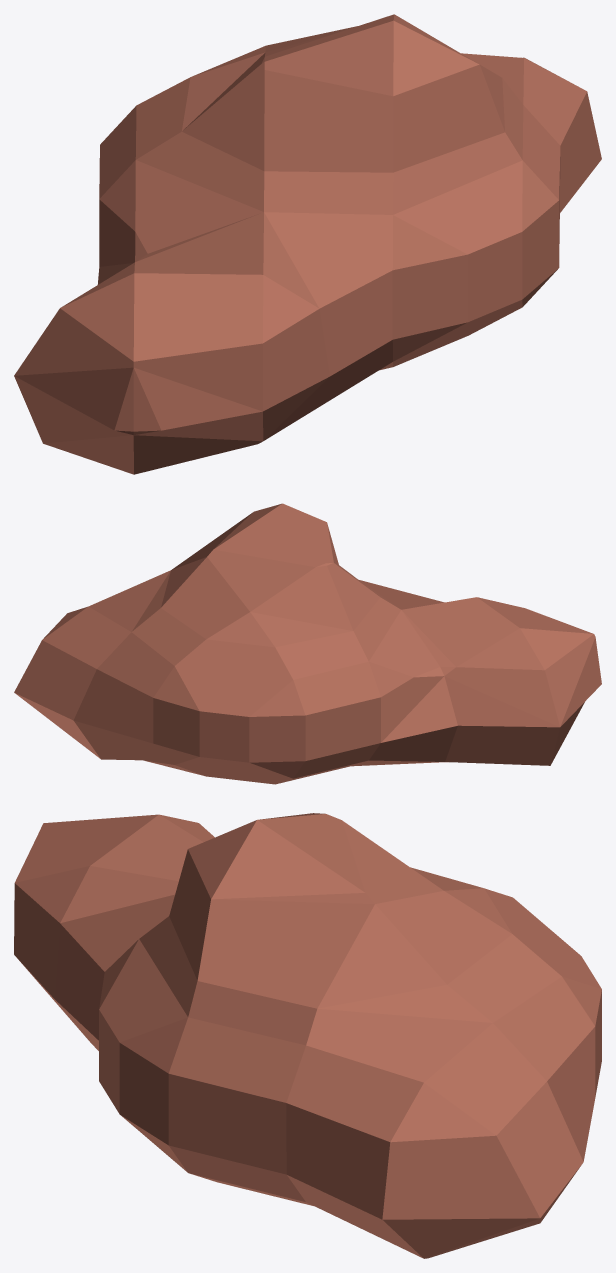
The model's file is Rock 1.fbx.
3 views of the same model, one above another, from view 1: azimuth 30°, elevation 25°; view 2: azimuth 150°, elevation 25°; view 3: azimuth 270°, elevation 25° (orthographic). The views are drawn at different scales.
Visible parts, largest first — view 1: Rock; view 2: Rock; view 3: Rock.
Part boxes in pixels (x1,y1,x2,y2): Rock: (14, 14, 601, 474); Rock: (14, 503, 601, 784); Rock: (14, 813, 601, 1258).
Size of the model in its own units: 26.62 by 13.23 by 19.3.
